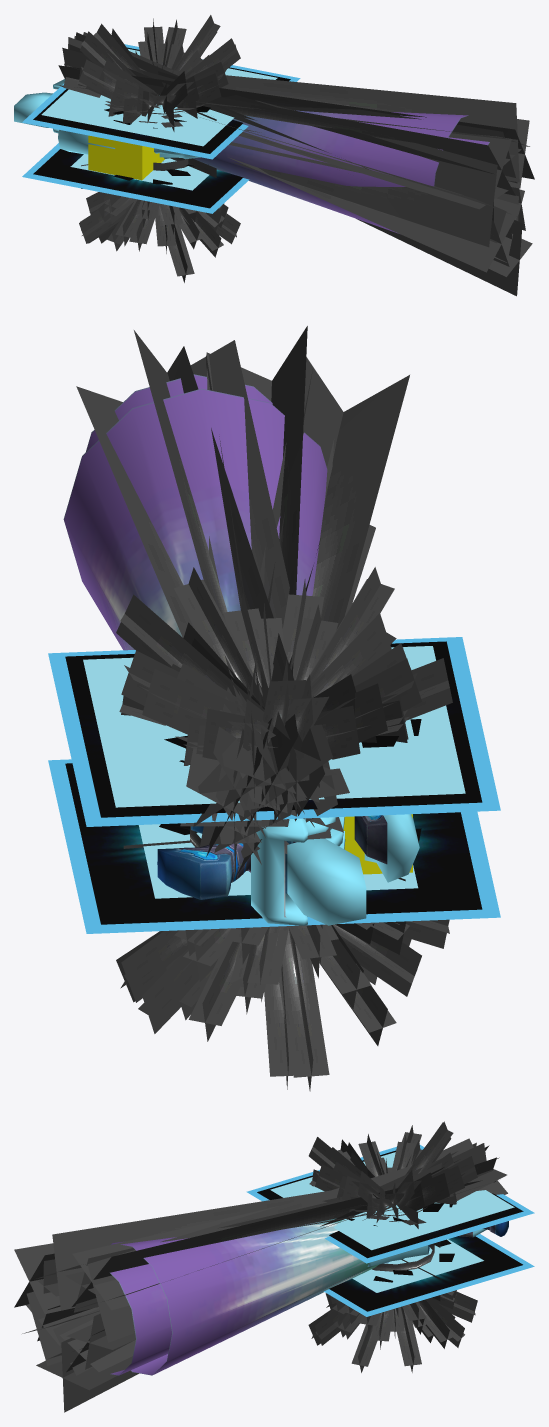
The picture shows the model from 3 angles, top to bottom: view 1: azimuth 30°, elevation 25°; view 2: azimuth 150°, elevation 25°; view 3: azimuth 270°, elevation 25°; orthographic projection. The views are drawn at different scales.
Visible parts, largest first — view 1: object0265_Plane103, object0030_Cylinder03, object0221_Plane52, object0243_Plane80, "object0192_Editable Poly", object0232_Plane64, object0145_Plane229, object0254_Plane95, object0152_Box, object0215_Plane, object0074_Plane01, object0360_W537 (+3 smaller); view 2: object0265_Plane103, object0030_Cylinder03, object0221_Plane52, "object0192_Editable Poly", object0243_Plane80, object0254_Plane95, object0145_Plane229, object0232_Plane64, object0360_W537, object0215_Plane, object0313_Plane, object0074_Plane01 (+4 smaller); view 3: object0265_Plane103, object0030_Cylinder03, object0221_Plane52, "object0192_Editable Poly", object0232_Plane64, object0254_Plane95, object0145_Plane229, object0050_Cylinder04, "object0211_Editable Poly", object0215_Plane, object0074_Plane01, object0243_Plane80 (+4 smaller).
Boxes of the visible parts, x1,y1,x2,y2 form: object0265_Plane103: (58,32,534,296); object0030_Cylinder03: (193,110,468,233); object0221_Plane52: (86,18,240,253); object0243_Plane80: (79,31,224,251); "object0192_Editable Poly": (41,49,277,146); object0232_Plane64: (81,37,223,282); object0145_Plane229: (33,149,243,208); object0254_Plane95: (77,15,228,227); object0152_Box: (88,135,164,180); object0215_Plane: (22,44,300,159); object0074_Plane01: (33,47,290,153); object0360_W537: (14,79,200,159); object0265_Plane103: (76,326,409,876); object0030_Cylinder03: (63,388,327,650); object0221_Plane52: (138,567,452,1089); "object0192_Editable Poly": (83,646,465,807); object0243_Plane80: (123,604,411,1091); object0254_Plane95: (116,593,408,1014); object0145_Plane229: (65,763,482,924); object0232_Plane64: (119,567,421,1001); object0360_W537: (251,814,419,925); object0215_Plane: (48,637,500,826); object0313_Plane: (48,759,500,933); object0074_Plane01: (65,641,481,817); object0265_Plane103: (14,1138,507,1412); object0030_Cylinder03: (111,1218,378,1375); object0221_Plane52: (325,1122,477,1372); "object0192_Editable Poly": (270,1152,514,1250); object0232_Plane64: (308,1134,456,1349); object0254_Plane95: (338,1135,456,1372); object0145_Plane229: (329,1236,522,1311); object0050_Cylinder04: (110,1264,171,1375); "object0211_Editable Poly": (352,1239,483,1292); object0215_Plane: (246,1145,534,1263); object0074_Plane01: (257,1150,523,1257); object0243_Plane80: (309,1121,455,1333).
Bounding box in the file's own units: 2.11 × 1.23 × 2.67.
